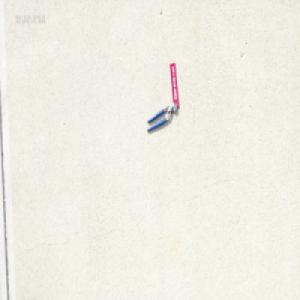Label: (168, 61, 179, 107)
Pliers: (145, 102, 177, 132)
